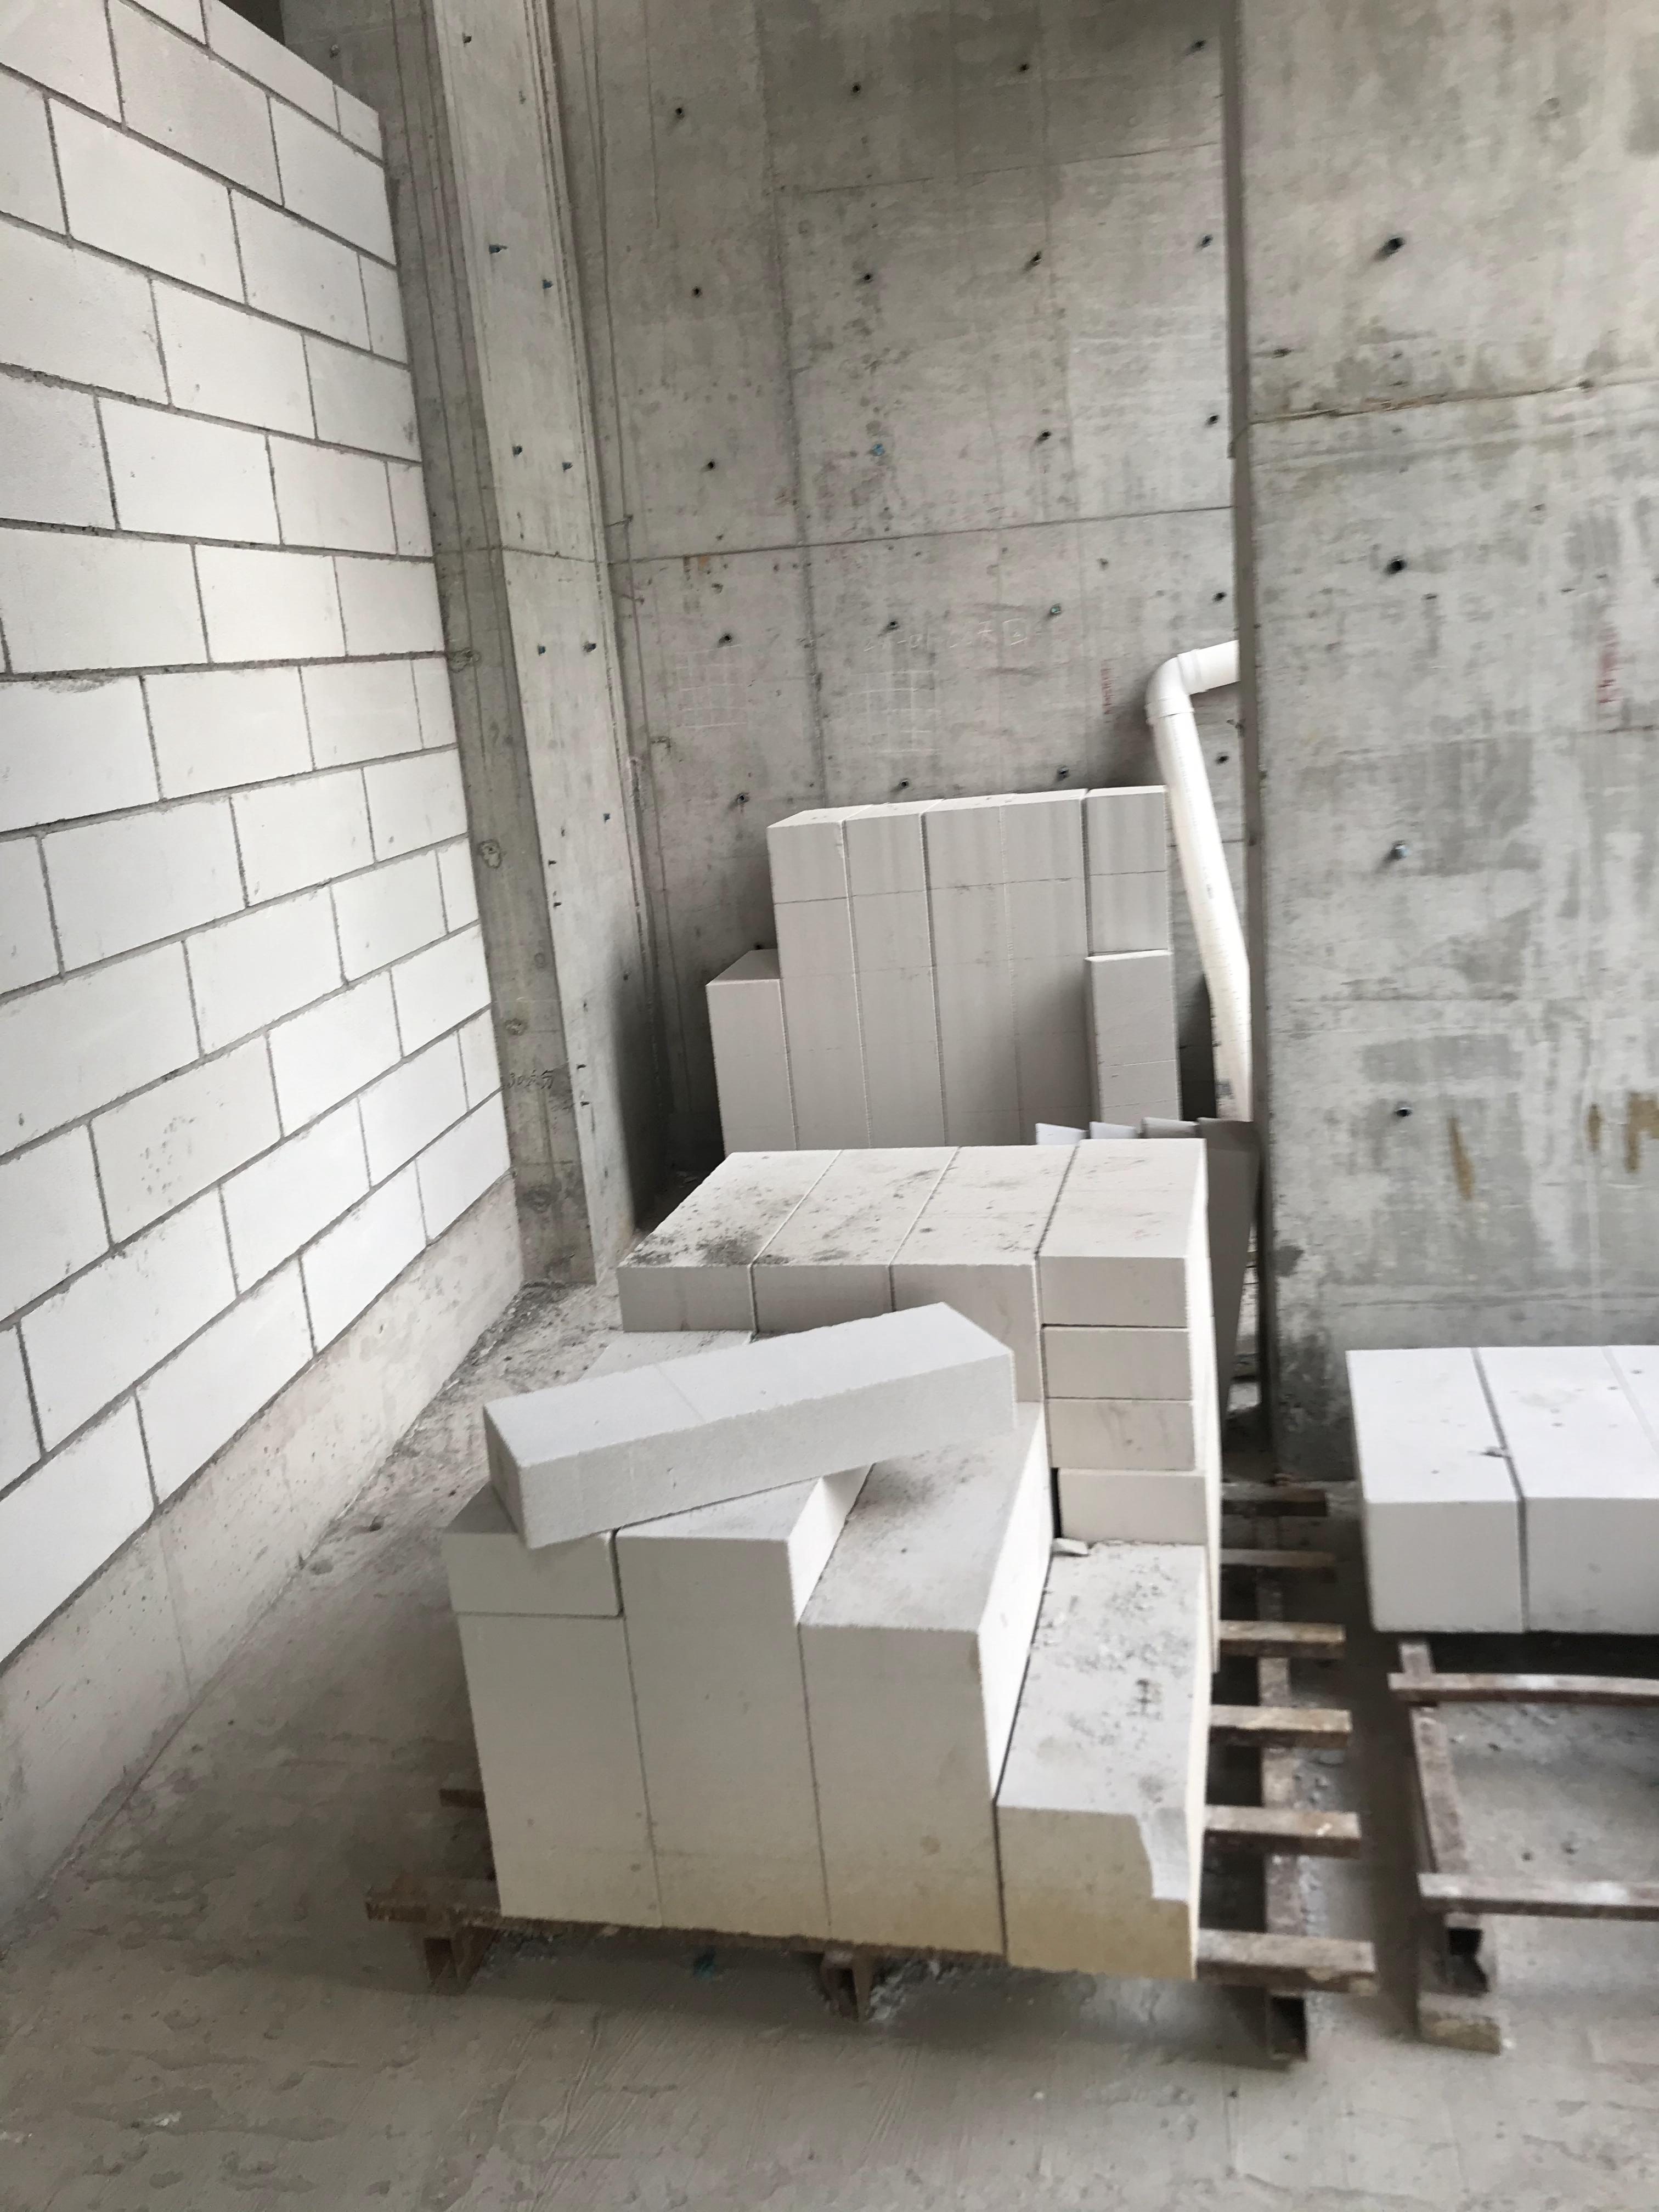brick: (784, 442, 1659, 1216), (1342, 0, 1635, 326)
